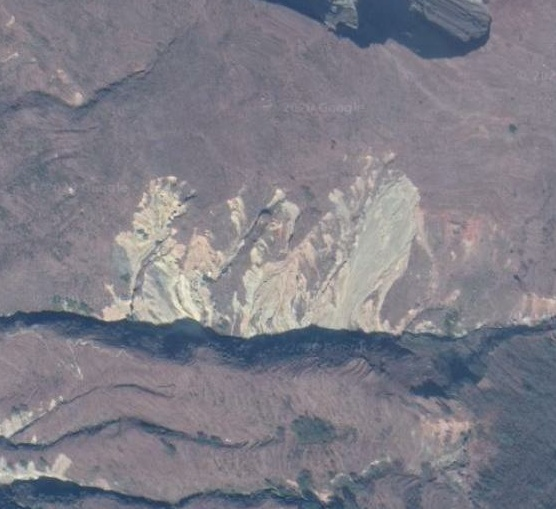slope: (93, 146, 430, 352)
